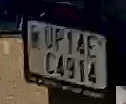1: (76, 56, 87, 85), (65, 28, 74, 55)
4: (74, 32, 86, 59), (86, 62, 98, 87), (54, 55, 66, 78)
9: (65, 56, 77, 80)
C: (41, 51, 56, 78)
E: (85, 33, 99, 61)
P: (53, 27, 66, 52)
U: (43, 24, 54, 50)
